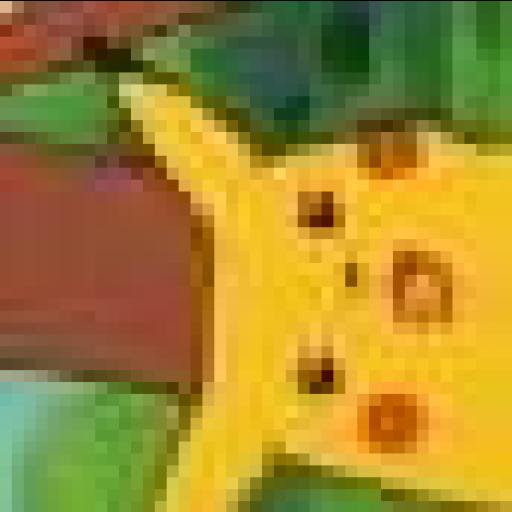Pikachu: (84, 35, 512, 512)
